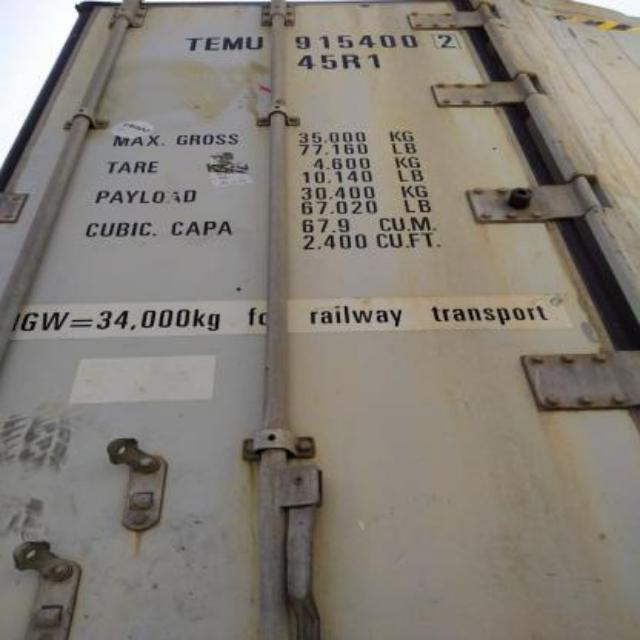0: (378, 34, 398, 50), (398, 34, 418, 48)
1: (317, 34, 333, 50)
2: (434, 34, 456, 50)
4: (356, 33, 376, 49)
5: (334, 34, 356, 50)
9: (293, 34, 311, 50)
E: (204, 36, 220, 52)
M: (221, 35, 245, 51)
T: (184, 34, 206, 54)
U: (244, 36, 264, 50)
